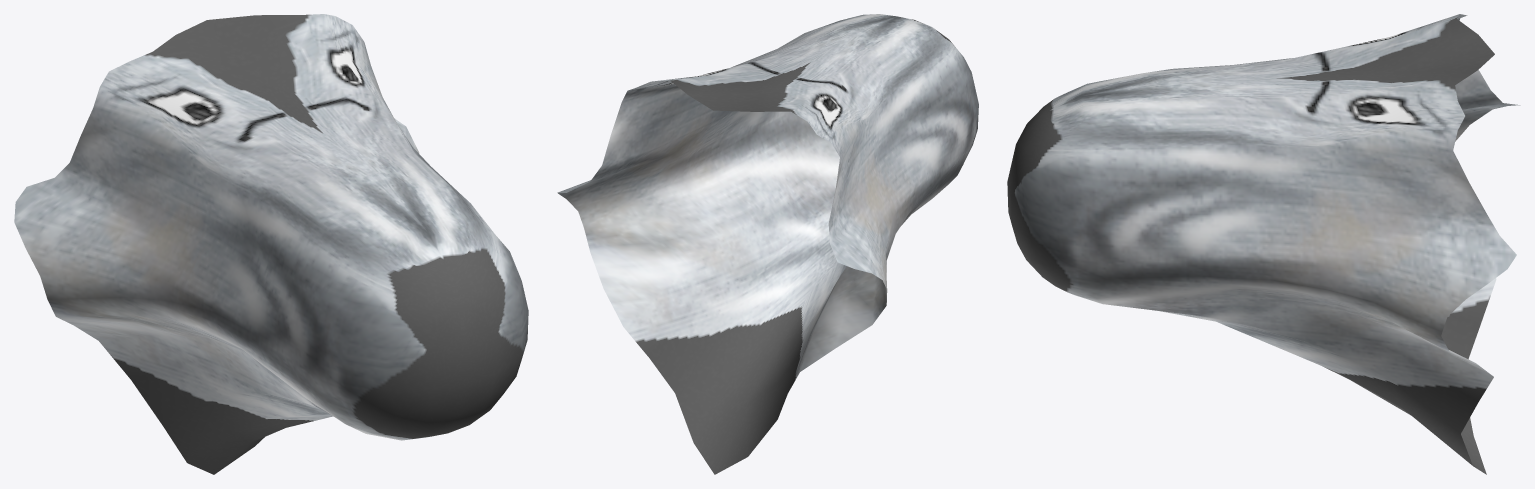
Rendered from ghost.glb.
3 views of the same model, side by side, from view 1: azimuth 30°, elevation 25°; view 2: azimuth 150°, elevation 25°; view 3: azimuth 270°, elevation 25° (orthographic). The views are drawn at different scales.
Parts seen in each view (by area): view 1: ghost; view 2: ghost; view 3: ghost.
Part boxes in pixels (<box>): ghost: <box>14,14,528,474</box>; ghost: <box>557,14,978,474</box>; ghost: <box>1007,14,1520,474</box>.
Size of the model in its own units: 3.25 by 3.61 by 3.98.
Materials: 1 (1 with a texture image).
